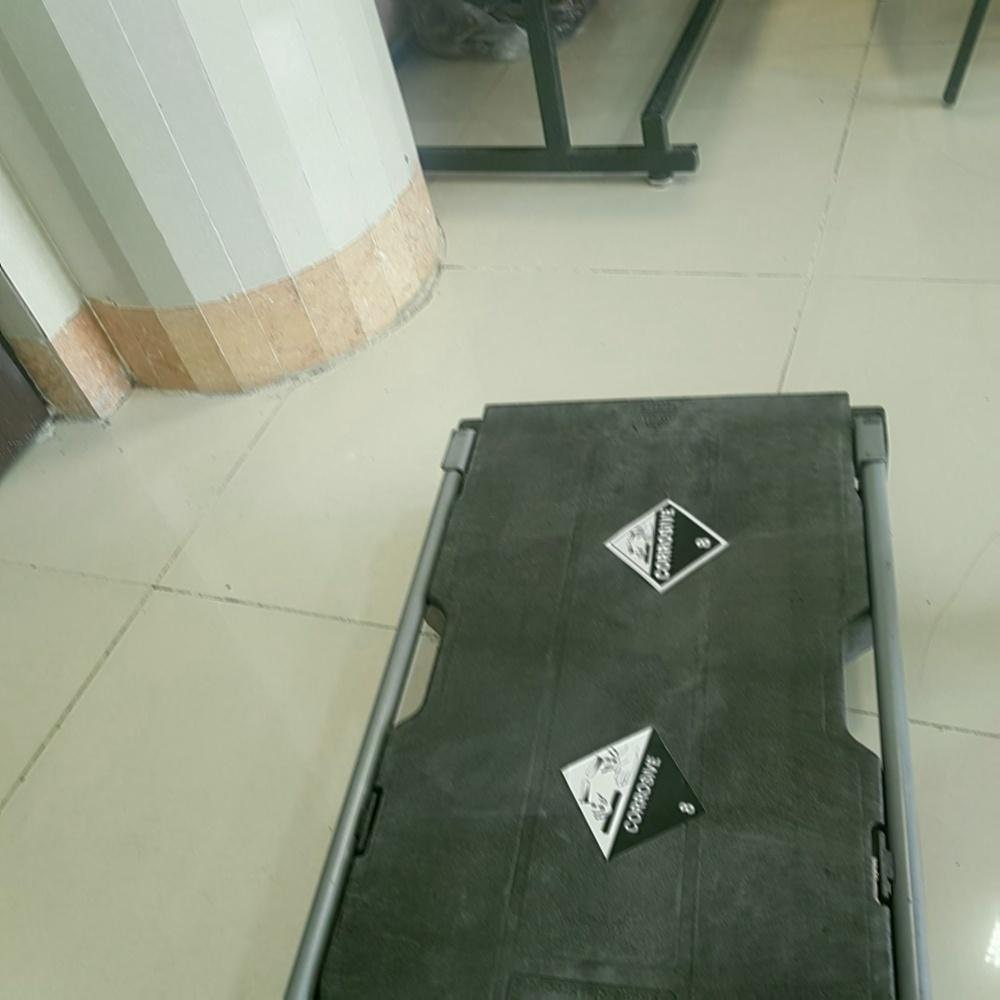corrosive: (562, 725, 710, 861), (604, 497, 735, 592)
